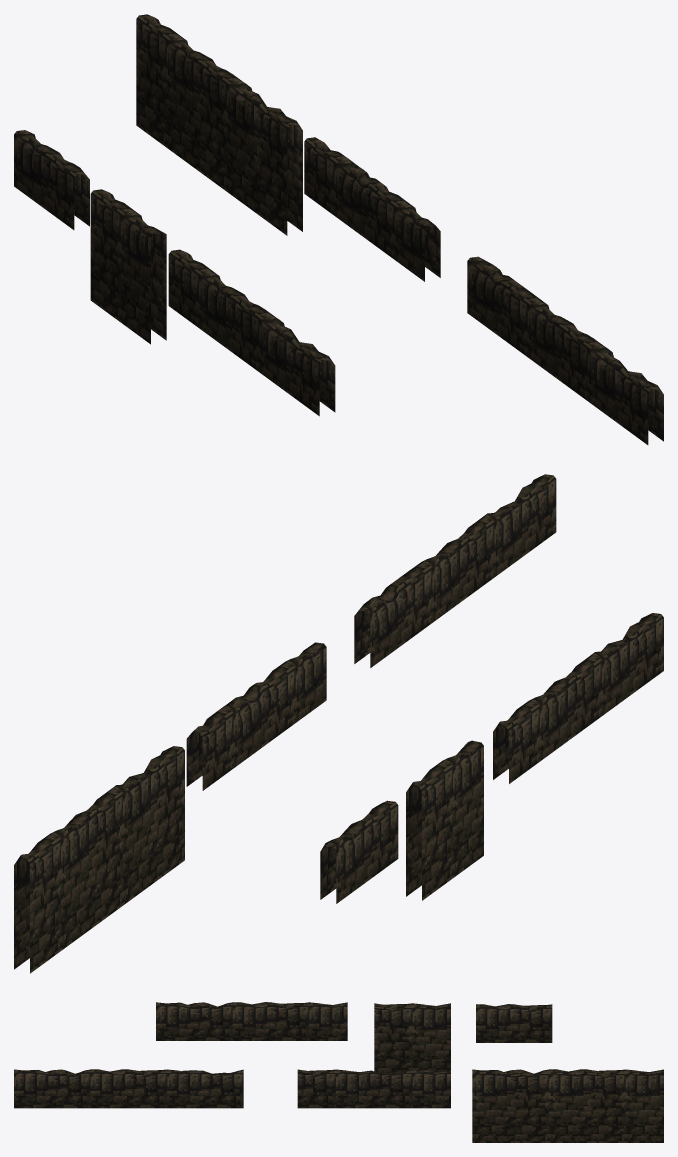
The model's file is EnvMdrMD_Mount_C_Fence_A_200W.FBX.
The picture shows the model from 3 angles, top to bottom: view 1: azimuth 30°, elevation 25°; view 2: azimuth 150°, elevation 25°; view 3: azimuth 270°, elevation 25°; orthographic projection. The views are drawn at different scales.
Parts seen in each view (by area): view 1: EnvMdrMD_Mount_C_Fence_A_500W_200H, EnvMdrMD_Mount_C_Fence_A_600W, EnvMdrMD_Mount_C_Fence_A_500W, EnvMdrMD_Mount_C_Fence_A_200W_200H, EnvMdrMD_Mount_C_Fence_A_400W, EnvMdrMD_Mount_C_Fence_A_200W; view 2: EnvMdrMD_Mount_C_Fence_A_500W_200H, EnvMdrMD_Mount_C_Fence_A_600W, EnvMdrMD_Mount_C_Fence_A_500W, EnvMdrMD_Mount_C_Fence_A_200W_200H, EnvMdrMD_Mount_C_Fence_A_400W, EnvMdrMD_Mount_C_Fence_A_200W; view 3: EnvMdrMD_Mount_C_Fence_A_500W_200H, EnvMdrMD_Mount_C_Fence_A_600W, EnvMdrMD_Mount_C_Fence_A_500W, EnvMdrMD_Mount_C_Fence_A_400W, EnvMdrMD_Mount_C_Fence_A_200W_200H, EnvMdrMD_Mount_C_Fence_A_200W.
Part boxes in pixels (x1,y1,x2,y2): EnvMdrMD_Mount_C_Fence_A_500W_200H: (136, 14, 302, 235); EnvMdrMD_Mount_C_Fence_A_600W: (467, 256, 663, 444); EnvMdrMD_Mount_C_Fence_A_500W: (168, 249, 335, 416); EnvMdrMD_Mount_C_Fence_A_200W_200H: (90, 189, 166, 344); EnvMdrMD_Mount_C_Fence_A_400W: (304, 137, 440, 281); EnvMdrMD_Mount_C_Fence_A_200W: (14, 130, 89, 229); EnvMdrMD_Mount_C_Fence_A_500W_200H: (14, 746, 184, 973); EnvMdrMD_Mount_C_Fence_A_600W: (354, 474, 556, 667); EnvMdrMD_Mount_C_Fence_A_500W: (493, 613, 663, 783); EnvMdrMD_Mount_C_Fence_A_200W_200H: (406, 740, 483, 900); EnvMdrMD_Mount_C_Fence_A_400W: (186, 642, 326, 790); EnvMdrMD_Mount_C_Fence_A_200W: (320, 800, 398, 903); EnvMdrMD_Mount_C_Fence_A_500W_200H: (472, 1069, 663, 1142); EnvMdrMD_Mount_C_Fence_A_600W: (14, 1069, 243, 1108); EnvMdrMD_Mount_C_Fence_A_500W: (156, 1002, 347, 1040); EnvMdrMD_Mount_C_Fence_A_400W: (297, 1069, 450, 1108); EnvMdrMD_Mount_C_Fence_A_200W_200H: (374, 1003, 450, 1073); EnvMdrMD_Mount_C_Fence_A_200W: (476, 1004, 552, 1042).
Bounding box in the file's own units: 445 × 201 × 1697.
1 material, 1 textured.
